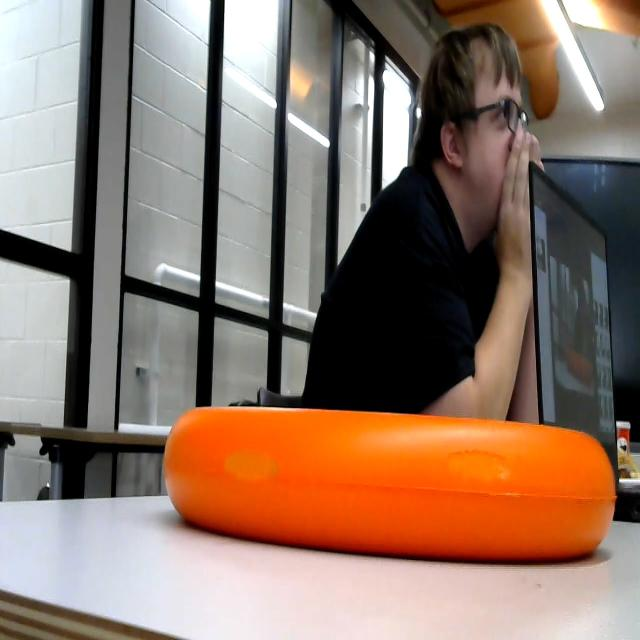note: (158, 400, 622, 585)
